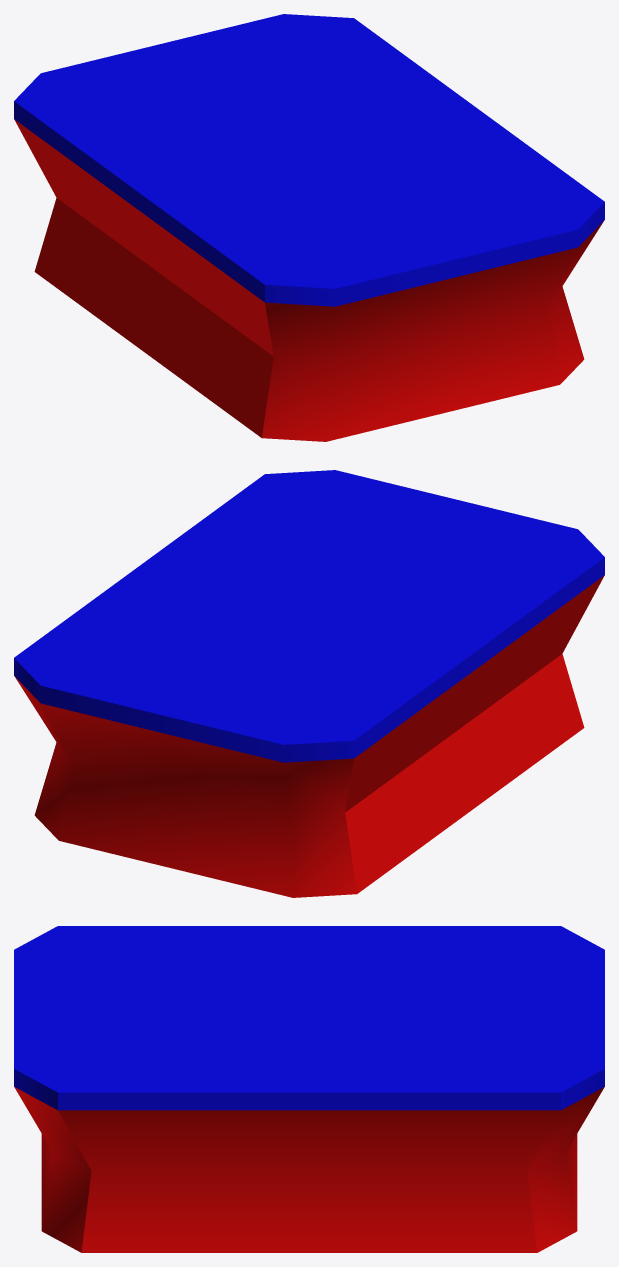
Rendered from Kücheninsel_1_low.fbx.
3 views of the same model, one above another, from view 1: azimuth 30°, elevation 25°; view 2: azimuth 150°, elevation 25°; view 3: azimuth 270°, elevation 25° (orthographic).
Parts seen in each view (by area): view 1: Kücheninsel_1_low; view 2: Kücheninsel_1_low; view 3: Kücheninsel_1_low.
Part boxes in pixels (left/top/right/bottom): Kücheninsel_1_low: left=14, top=14, right=604, bottom=441; Kücheninsel_1_low: left=14, top=470, right=604, bottom=897; Kücheninsel_1_low: left=14, top=926, right=604, bottom=1252.
Size of the model in its own units: 2 by 0.9227 by 3.
